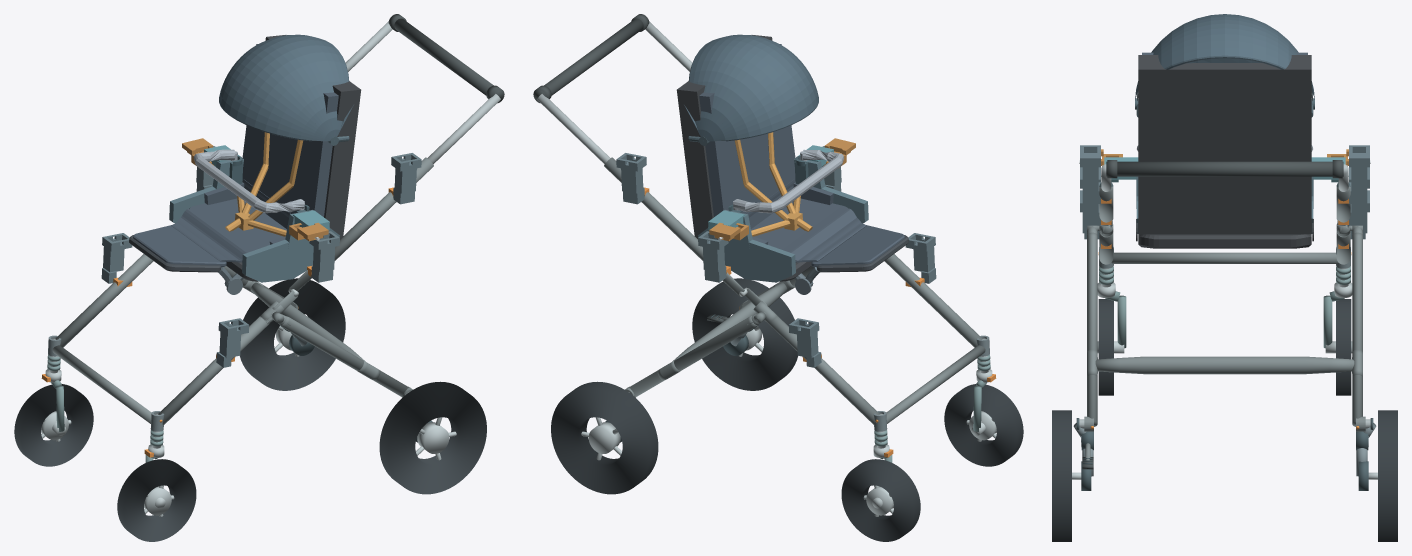
The model's file is S05_w650_state1_wheel_M.glb.
3 renders of one model, left to right at view 1: azimuth 30°, elevation 25°; view 2: azimuth 150°, elevation 25°; view 3: azimuth 270°, elevation 25°, orthographic. The views are drawn at different scales.
Parts seen in each view (by area): view 1: S05_Cabin, RL_tire.008, RR_tire.008, FL_tire.008, FR_tire.008, S05_Cabin_Mount_M, round_handle.008, V46_rear_leg_-1.009, main_lower_1.009, main_lower_-1.009, front_fixed_round_tube.008, main_upper_-1.009 (+7 smaller); view 2: S05_Cabin, RR_tire.008, RL_tire.008, FR_tire.008, FL_tire.008, S05_Cabin_Mount_M, round_handle.008, V46_rear_leg_1.009, main_lower_-1.009, main_lower_1.009, front_fixed_round_tube.008, main_upper_1.009 (+7 smaller); view 3: S05_Cabin, V46_rearbar.009, round_handle.008, front_fixed_round_tube.008, RL_tire.008, RR_tire.008, V46_rear_leg_1.009, V46_rear_leg_-1.009, FL_tire.008, FR_tire.008, Universal_Cabin_Receiver_H_1, Universal_Cabin_Receiver_H_-1 (+7 smaller).
Part boxes in pixels (x1,y1,x2,y2): S05_Cabin: [129, 34, 361, 294]; RL_tire.008: [379, 381, 486, 494]; RR_tire.008: [240, 278, 345, 390]; FL_tire.008: [117, 459, 196, 541]; FR_tire.008: [14, 384, 93, 466]; S05_Cabin_Mount_M: [169, 145, 339, 282]; round_handle.008: [394, 18, 503, 101]; V46_rear_leg_-1.009: [280, 316, 408, 397]; main_lower_1.009: [55, 254, 153, 347]; main_lower_-1.009: [158, 316, 271, 425]; front_fixed_round_tube.008: [52, 345, 151, 423]; main_upper_-1.009: [334, 157, 433, 260]; S05_Cabin: [676, 34, 908, 294]; RR_tire.008: [551, 381, 658, 494]; RL_tire.008: [692, 278, 797, 390]; FR_tire.008: [841, 459, 920, 541]; FL_tire.008: [944, 384, 1023, 466]; S05_Cabin_Mount_M: [698, 145, 868, 282]; round_handle.008: [534, 18, 643, 101]; V46_rear_leg_1.009: [629, 316, 757, 397]; main_lower_-1.009: [884, 254, 982, 347]; main_lower_1.009: [766, 316, 879, 425]; front_fixed_round_tube.008: [886, 345, 985, 423]; main_upper_1.009: [604, 157, 703, 260]; S05_Cabin: [1135, 14, 1314, 248]; V46_rearbar.009: [1095, 356, 1354, 374]; round_handle.008: [1106, 161, 1343, 176]; front_fixed_round_tube.008: [1111, 252, 1338, 263]; RL_tire.008: [1052, 410, 1071, 541]; RR_tire.008: [1378, 410, 1397, 541]; V46_rear_leg_1.009: [1352, 232, 1362, 426]; V46_rear_leg_-1.009: [1087, 232, 1097, 426]; FL_tire.008: [1098, 299, 1113, 395]; FR_tire.008: [1336, 299, 1351, 395]; Universal_Cabin_Receiver_H_1: [1349, 145, 1369, 203]; Universal_Cabin_Receiver_H_-1: [1080, 145, 1100, 203].
Size of the model in its own units: 1.16 by 1.2 by 0.7871.
